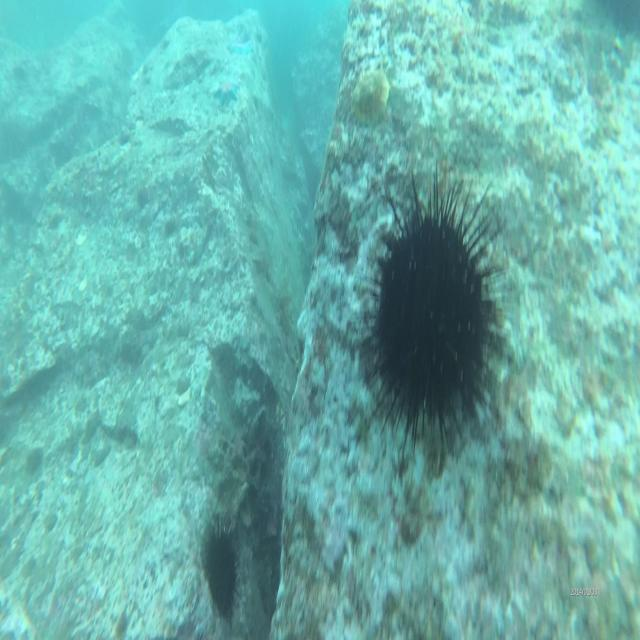echinus: (357, 156, 502, 470), (202, 512, 242, 623)
scallop: (351, 68, 394, 123)
